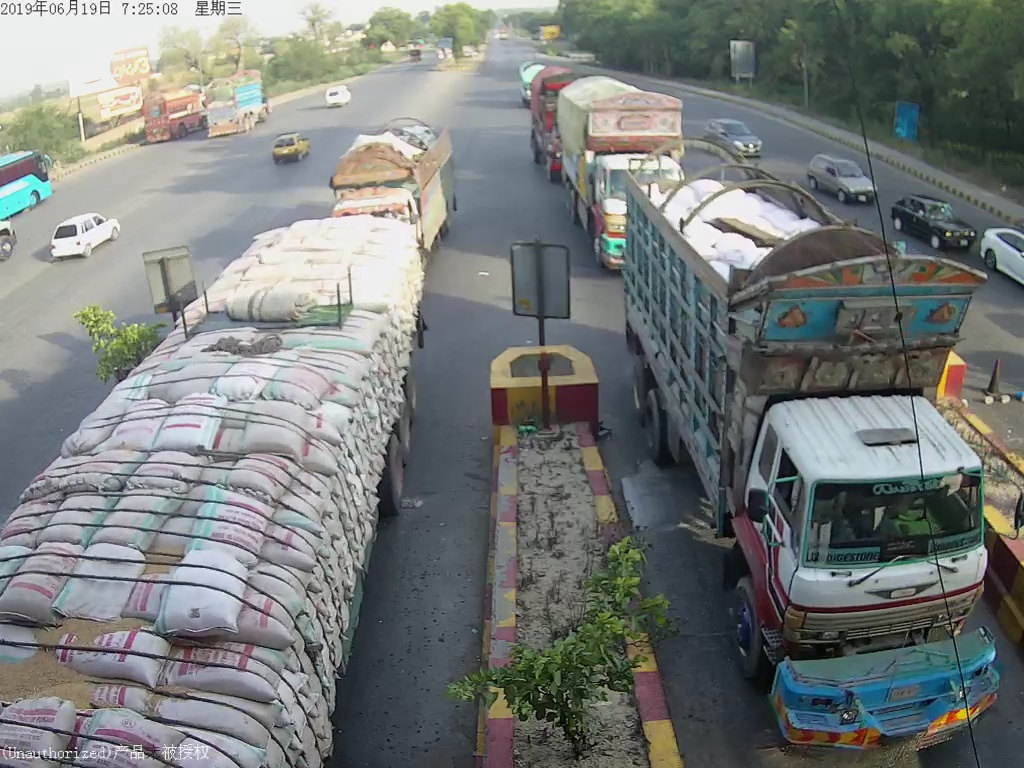Cat-4: (622, 136, 1014, 747), (326, 122, 457, 212)
